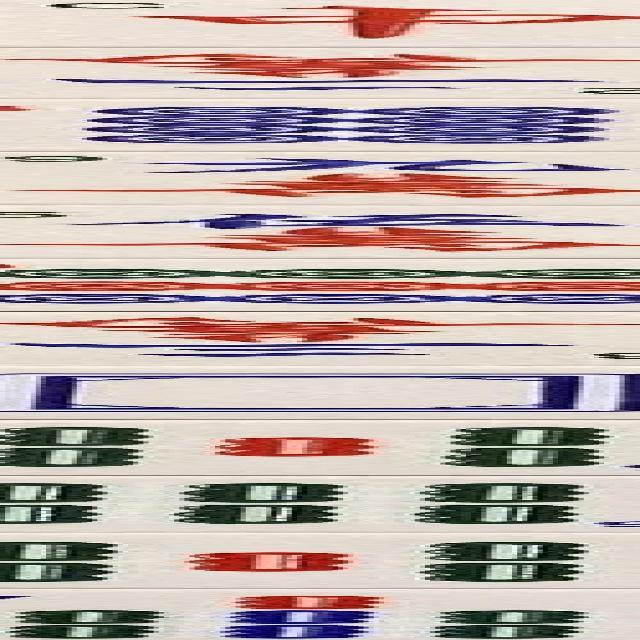hdr: (0, 0, 640, 44)
hdw: (0, 368, 640, 419)
sb5: (0, 533, 640, 586), (0, 422, 640, 474)
sb6: (0, 474, 640, 530)
sb7: (0, 588, 640, 640)
sc2: (0, 49, 640, 100)
sc3: (0, 312, 640, 365)
sc5: (0, 207, 640, 256)
sc9: (0, 154, 640, 206)
sd8: (0, 99, 640, 151)
sd9: (0, 260, 640, 308)
